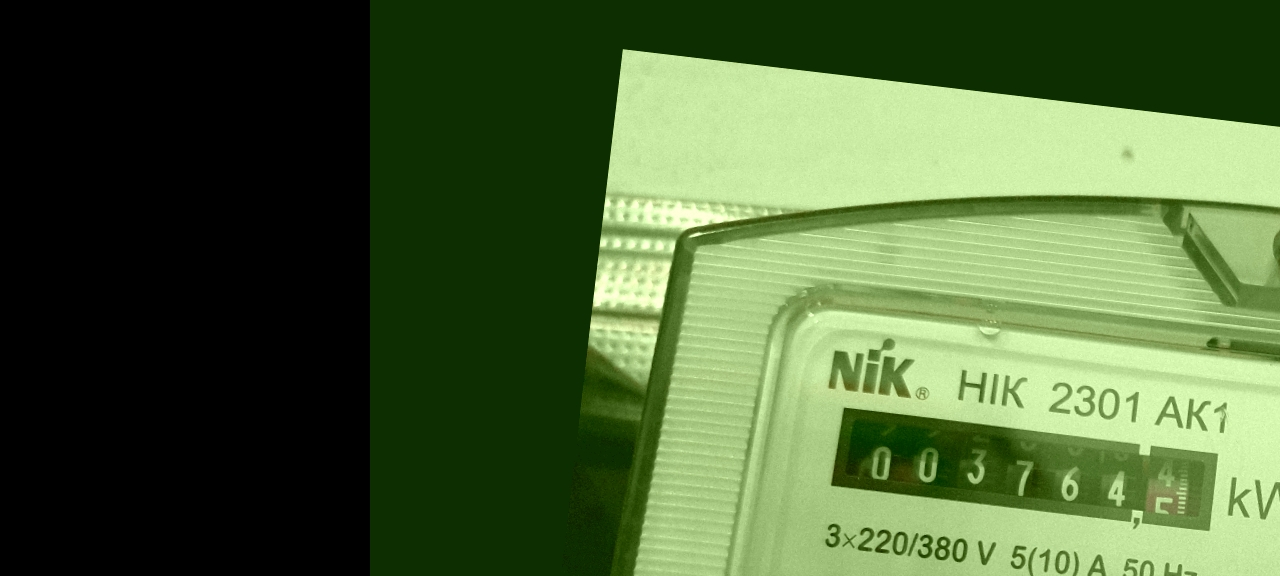0: (867, 442, 895, 482), (915, 443, 941, 485)
3: (963, 445, 990, 487)
4: (1106, 467, 1130, 508), (1155, 455, 1180, 489)
5: (1151, 493, 1176, 517)
6: (1059, 462, 1083, 503)
7: (1010, 455, 1038, 499)
screen: (815, 390, 1236, 547)
